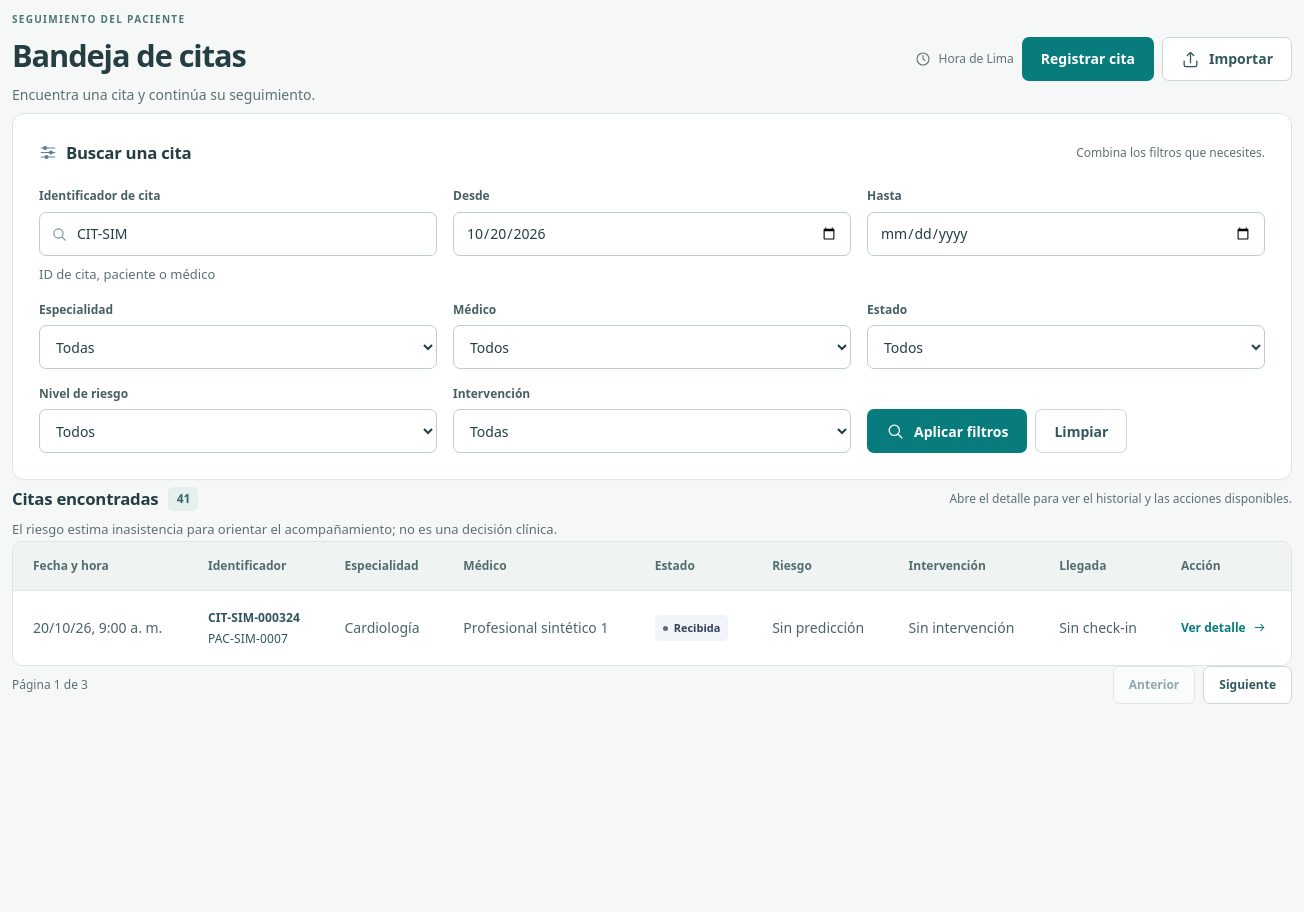
it: Bandeja migrada (RF-009, RF-016, RF-056, RN16, RNF-016) › pagina y limpia filtros desde la URL
Expected: the text "CIT-SIM-000324" is shown, [208,609,300,626]
Click the button "Siguiente": coordinates (1248, 685) [1203,666,1292,704]
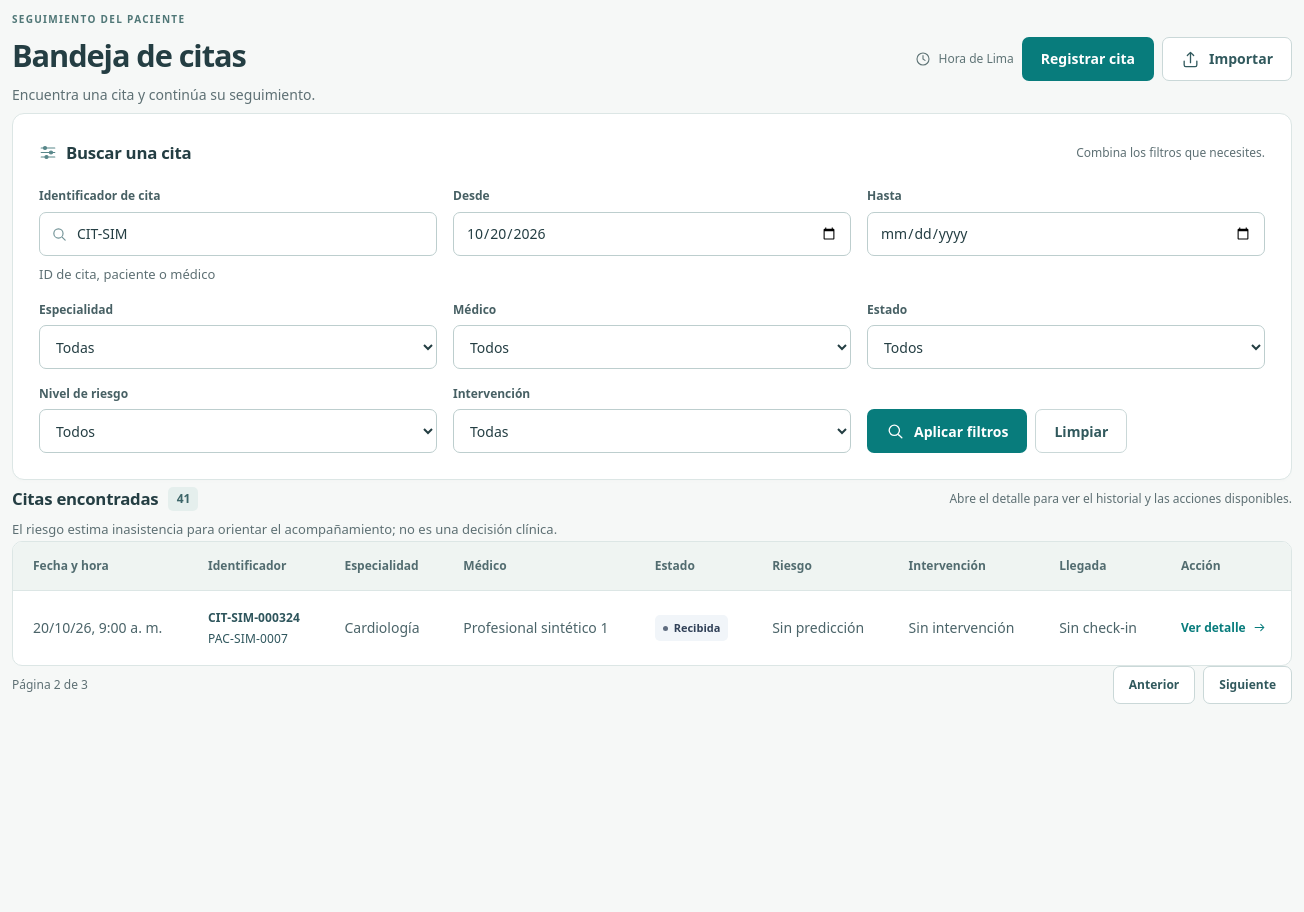
Result: the text "Página 2 de 3" is shown at [12,676,88,694]
Click the button "Anterior": coordinates (1154, 685) [1113,666,1195,704]
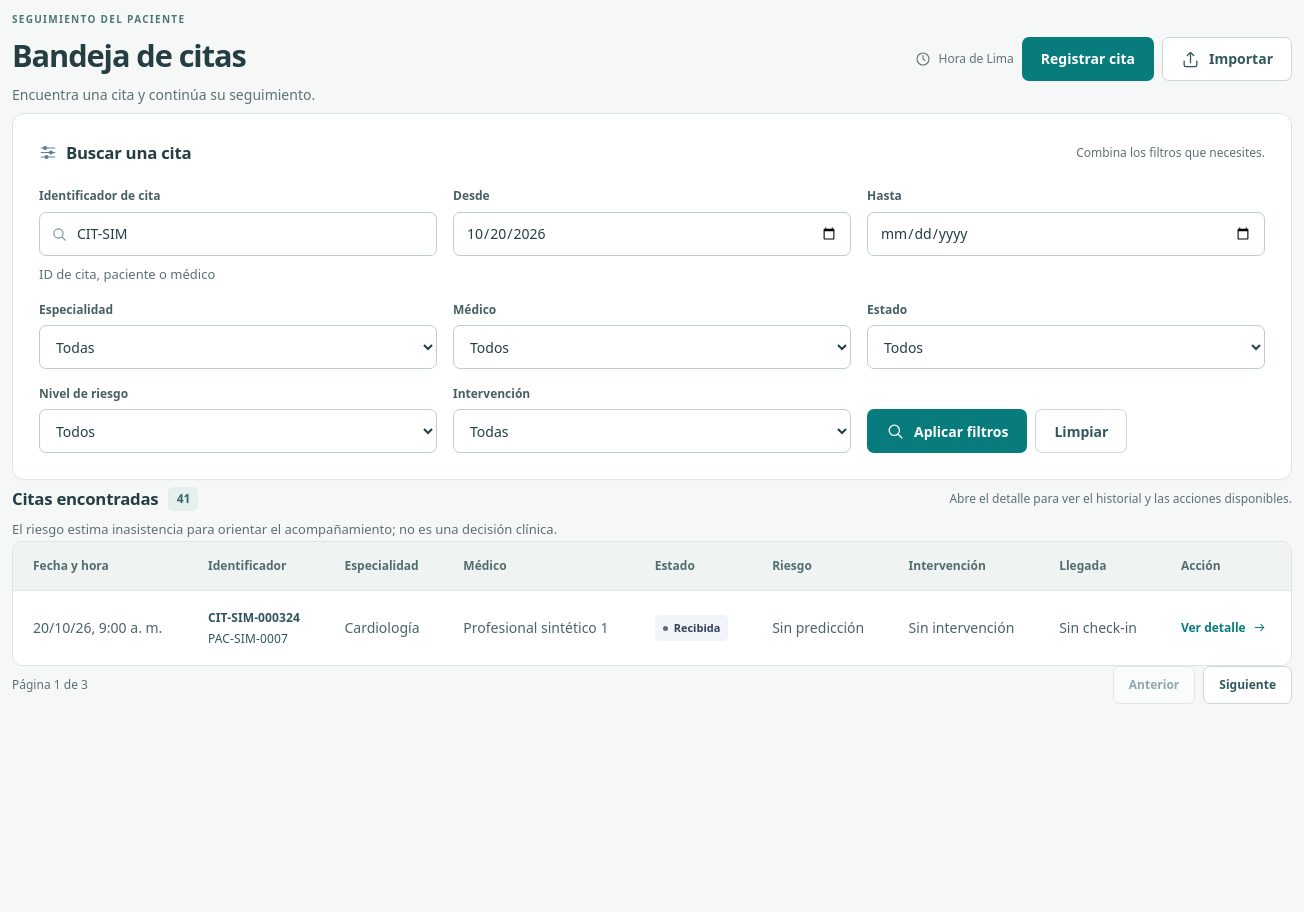
Result: the text "Página 1 de 3" is shown at [12,676,88,694]
Click the button "Limpiar": coordinates (1081, 431) [1036,409,1127,453]
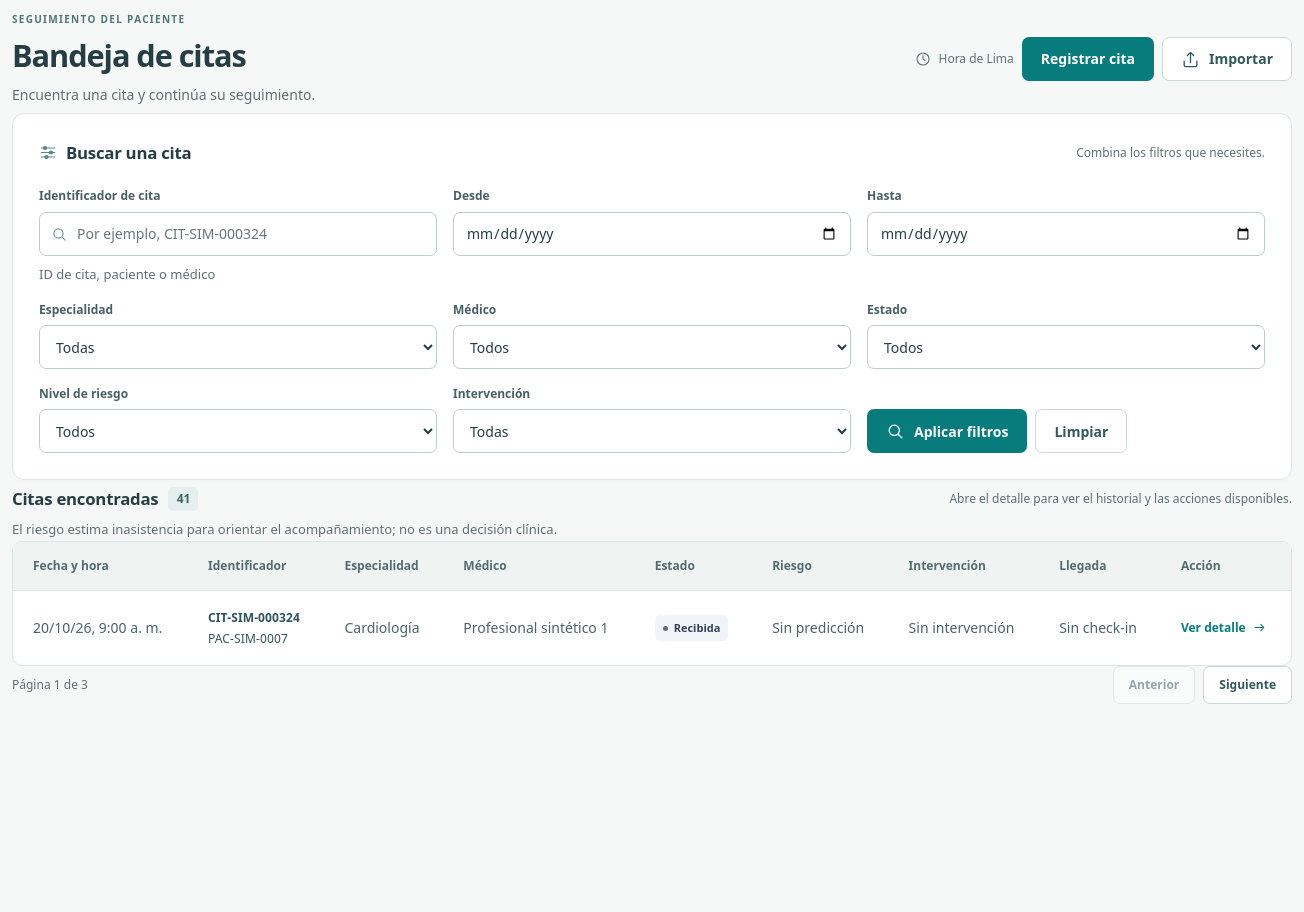
Result: the field labelled "Identificador de cita" is empty at [39,212,437,256]
